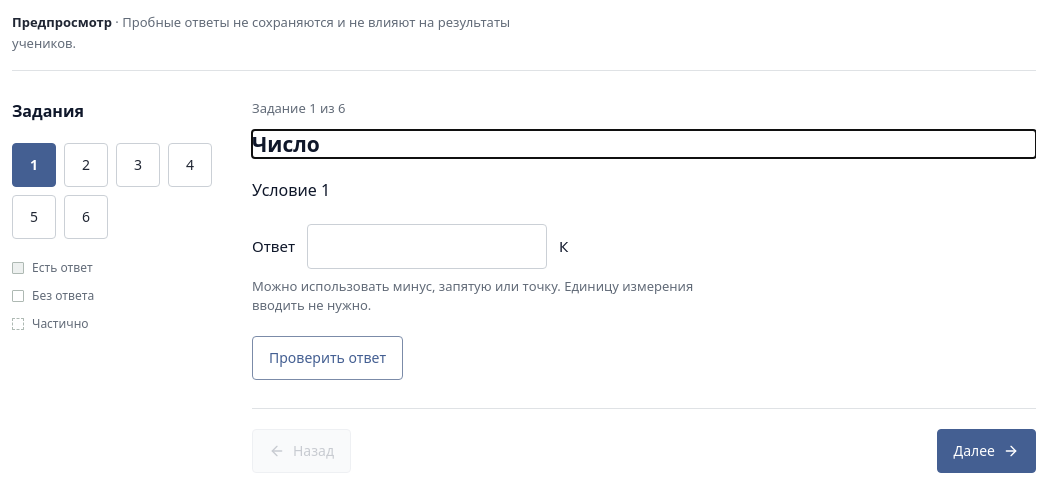
Test: shows only the earned points without a verbal assessment
Click the button "Проверить ответ".
click(328, 358)  # box [252,336,403,380]
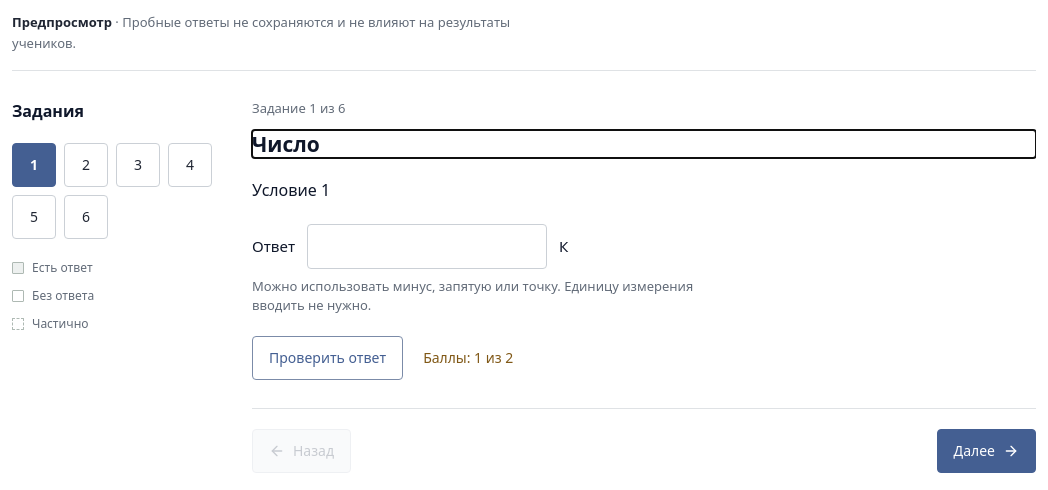
Expected: the message reads "Баллы: 1 из 2", [423,347,513,368]
